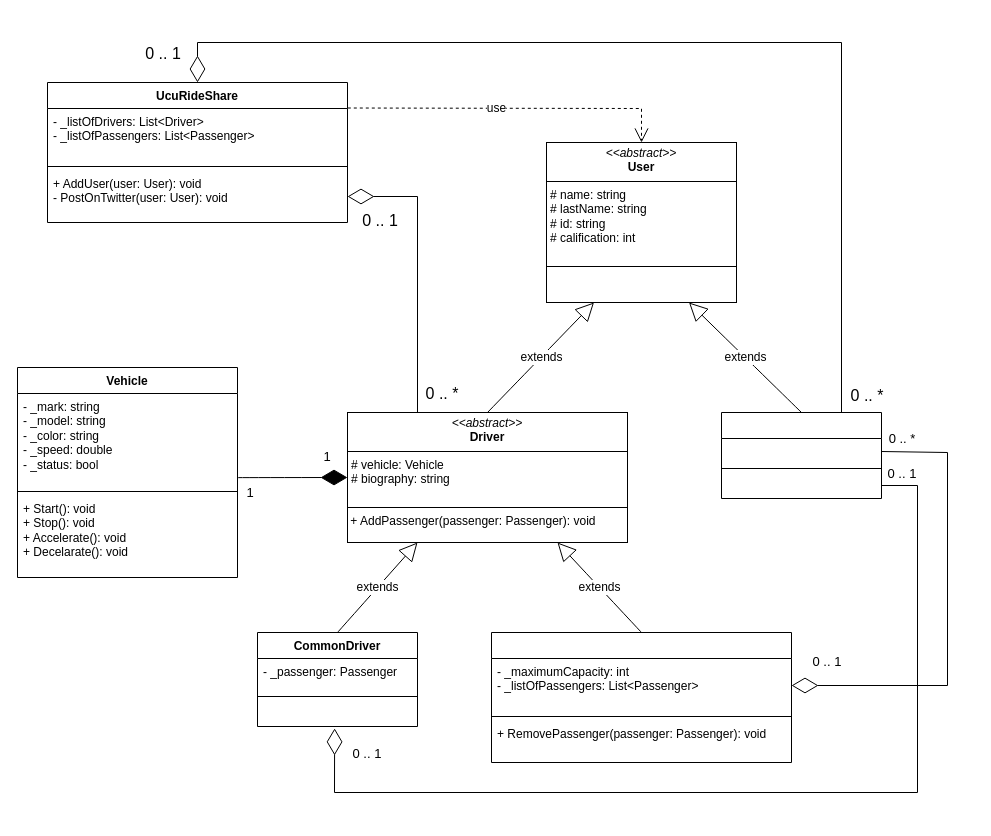
The diagram is 991 pixels wide and 836 high, and some of its shapes have lost their labels. The box of each missing label's shape, as (x1, y1, x2, y2) in pixels:
Passenger: (720, 412, 882, 498)
PoolDriver: (490, 632, 792, 762)
